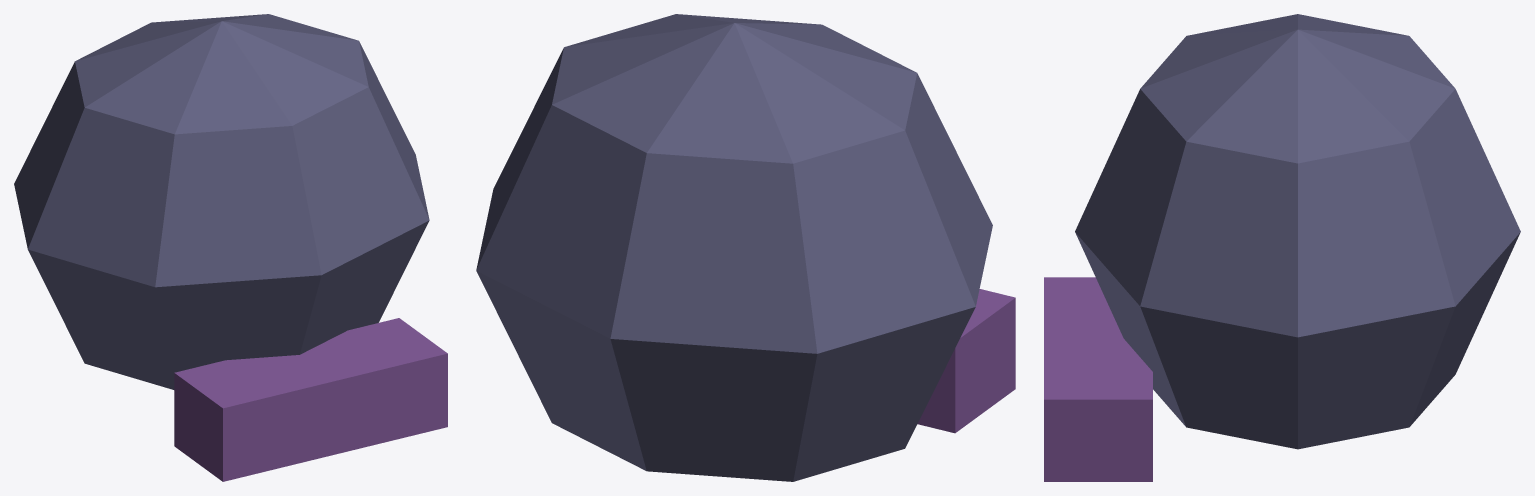
File: hostile_head_shadow.glb
3 views of the same model, side by side, from view 1: azimuth 30°, elevation 25°; view 2: azimuth 150°, elevation 25°; view 3: azimuth 270°, elevation 25° (orthographic). The views are drawn at different scales.
Visible parts, largest first — view 1: hostile_head_shadow; view 2: hostile_head_shadow; view 3: hostile_head_shadow.
Boxes of the visible parts, x1,y1,x2,y2 form: hostile_head_shadow: [14, 14, 447, 481]; hostile_head_shadow: [476, 14, 1015, 481]; hostile_head_shadow: [1044, 14, 1520, 481].
Bounding box in the file's own units: 0.552 × 0.492 × 0.526.
